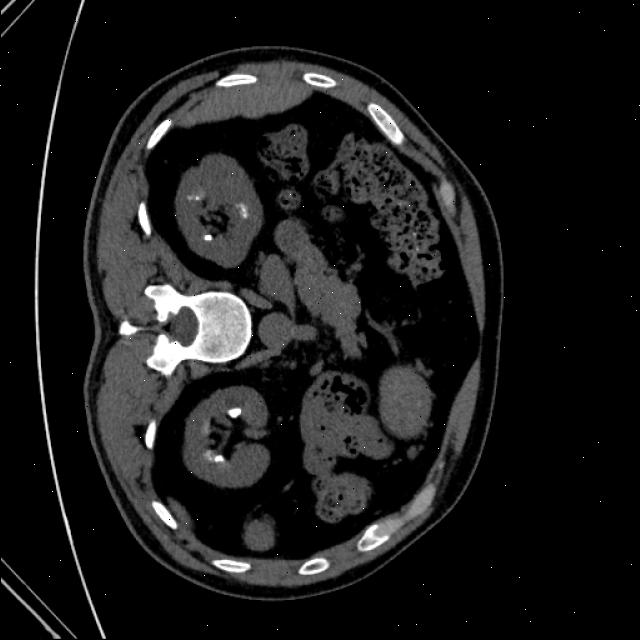kidneystone: (236, 206, 247, 219), (227, 409, 241, 419), (212, 455, 222, 462), (203, 234, 211, 241)
